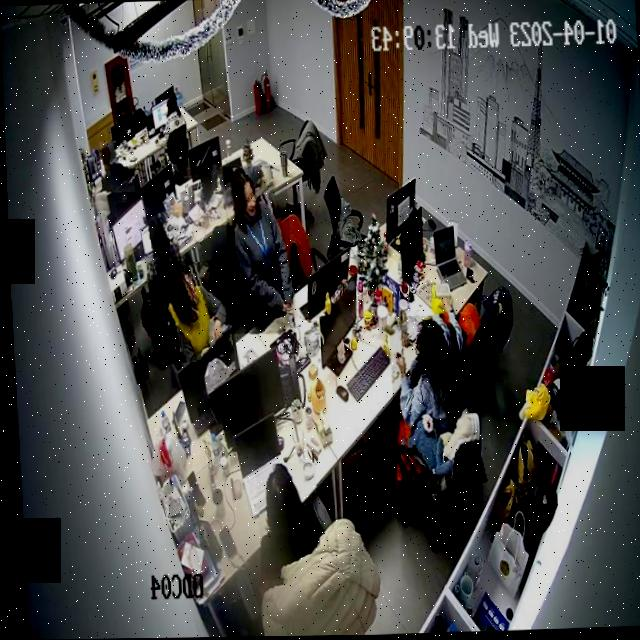person: (385, 315, 477, 496), (221, 165, 292, 334), (251, 463, 316, 581), (159, 261, 228, 363), (138, 213, 179, 280), (98, 141, 134, 192), (160, 92, 185, 135)
